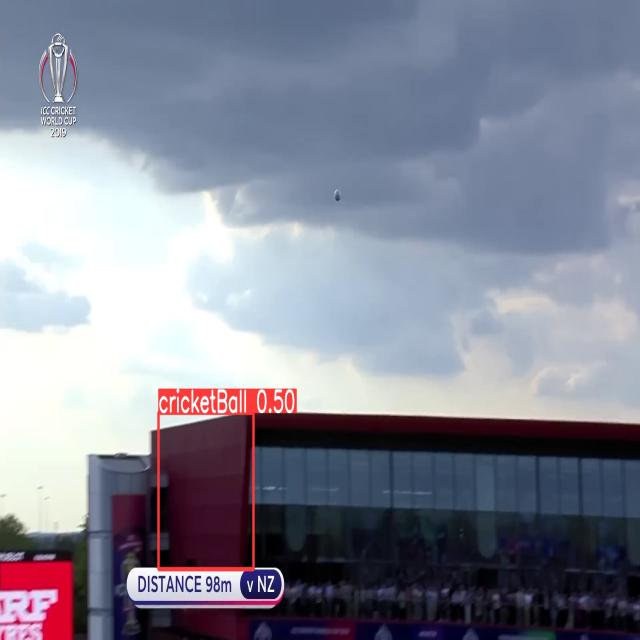ball: (334, 189, 341, 203)
